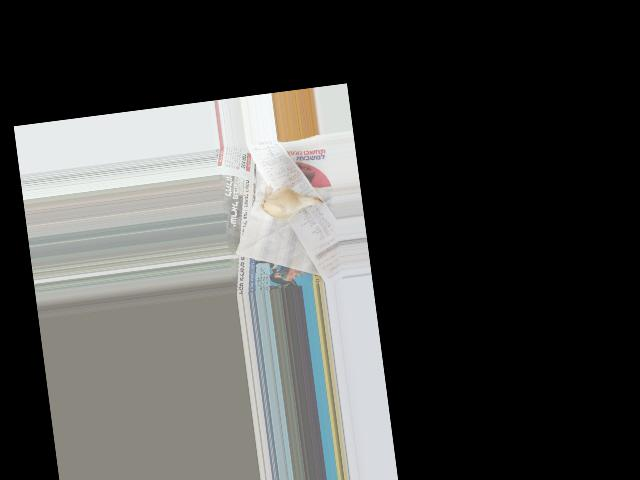onion: (264, 185, 305, 221)
